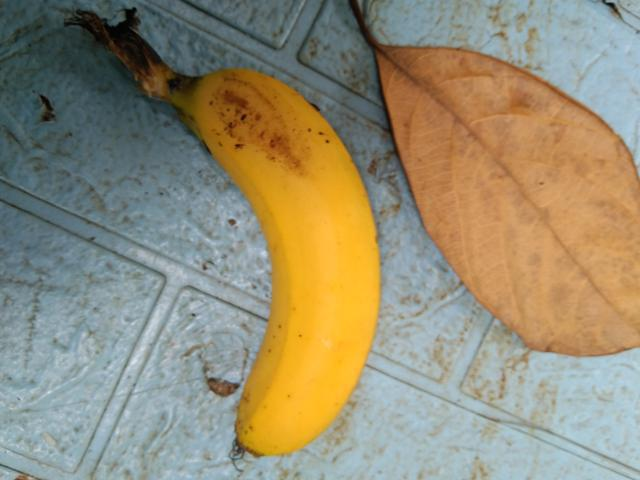freshripe: (175, 64, 403, 460)
